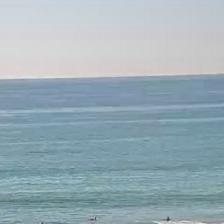surfer: (166, 216, 172, 222), (91, 217, 98, 221), (41, 222, 46, 223)
